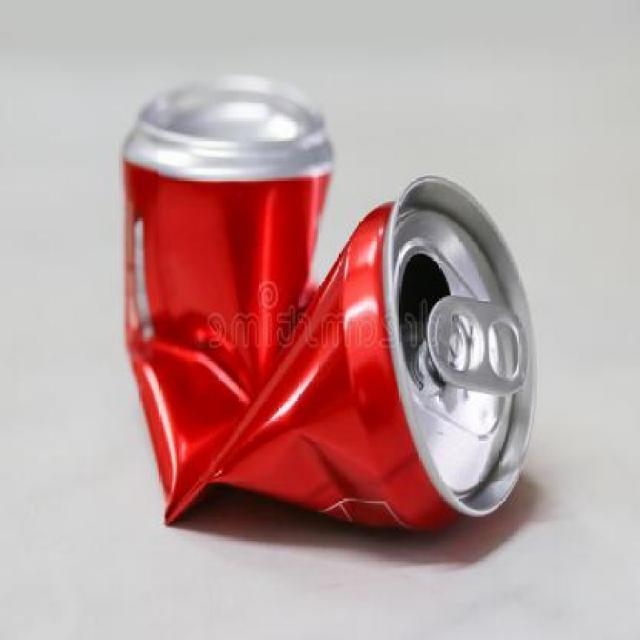can: (86, 53, 565, 550)
